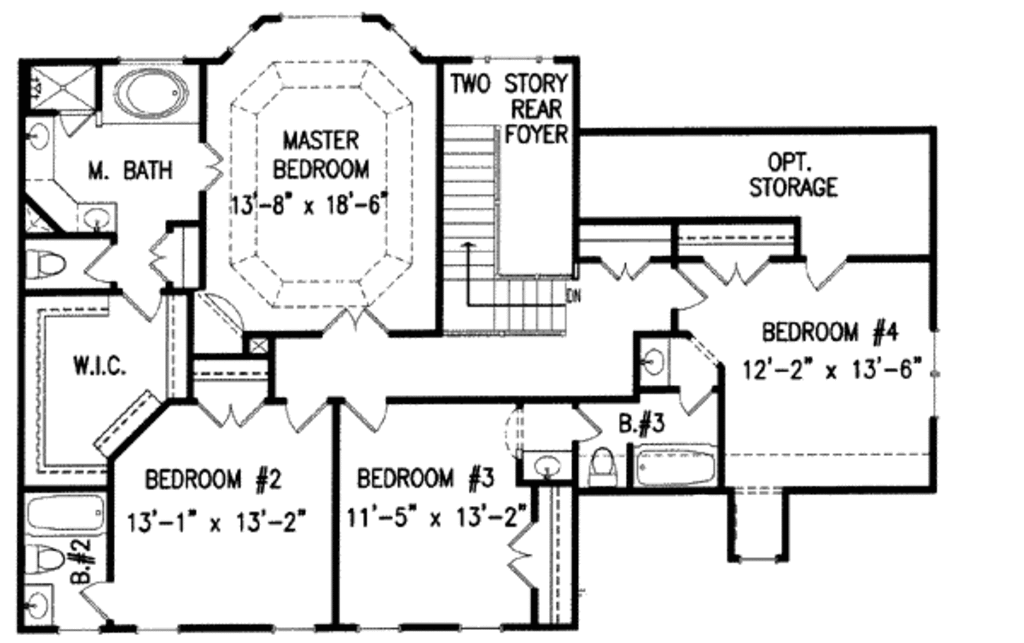door: (188, 394, 268, 428), (507, 519, 538, 593), (320, 306, 395, 336), (701, 257, 767, 287), (669, 268, 712, 314), (116, 284, 163, 326), (340, 396, 390, 432), (801, 251, 846, 290), (283, 396, 329, 431), (569, 404, 606, 445), (145, 230, 172, 285), (82, 242, 115, 287), (595, 255, 650, 282)
large_sink: (25, 242, 67, 283), (583, 445, 620, 489)
small_sink: (517, 449, 575, 486), (25, 117, 57, 184), (637, 334, 671, 391)
stairs: (441, 121, 582, 334)
tub: (101, 64, 201, 130), (20, 486, 107, 538), (628, 441, 723, 487)
